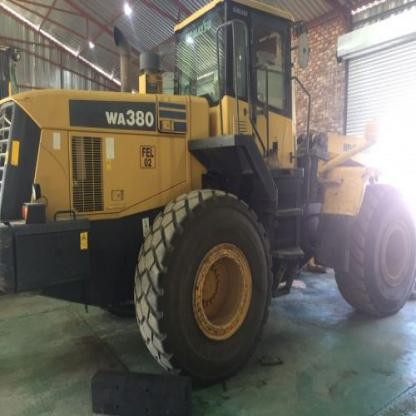bull_dozer/loader/grader: (8, 2, 415, 378)
